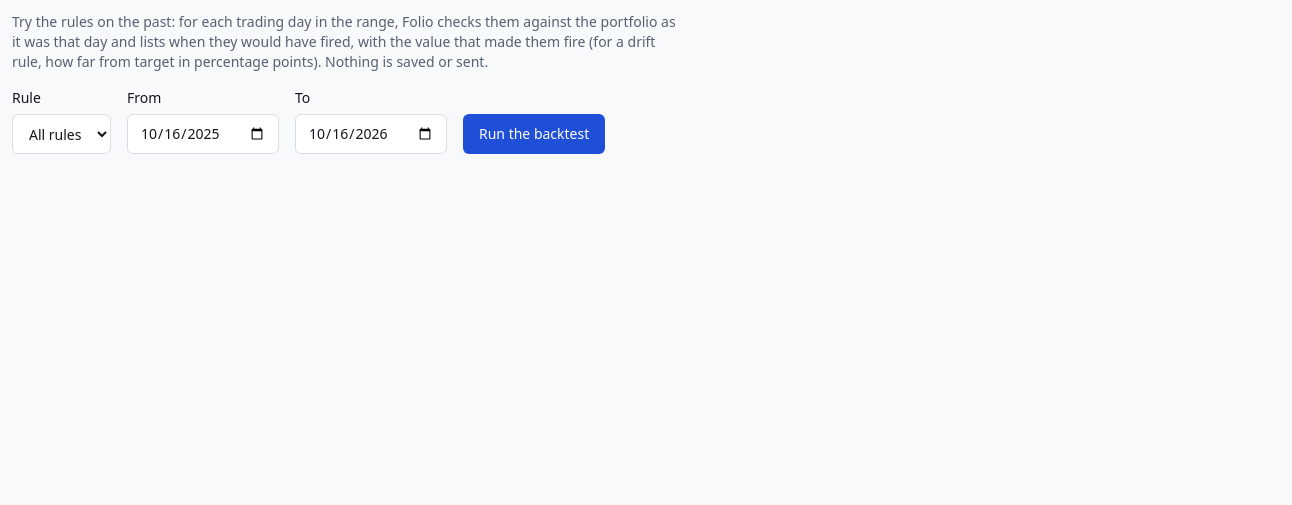
Test: the backtest (FR-ST-06) › tests one rule over a range of your choosing
Select "drift" in the dropdown labelled "Rule" at coordinates (62, 134), box [12, 114, 111, 154]
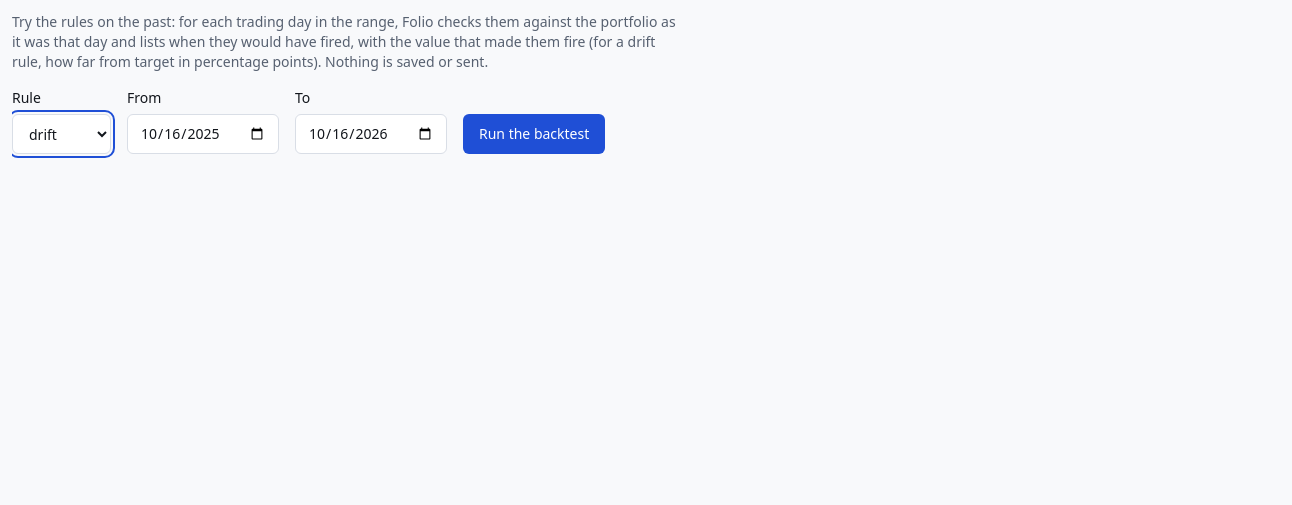
Type "2026-02-01" into the date field labelled "From" at coordinates (203, 134), box [127, 114, 279, 154]
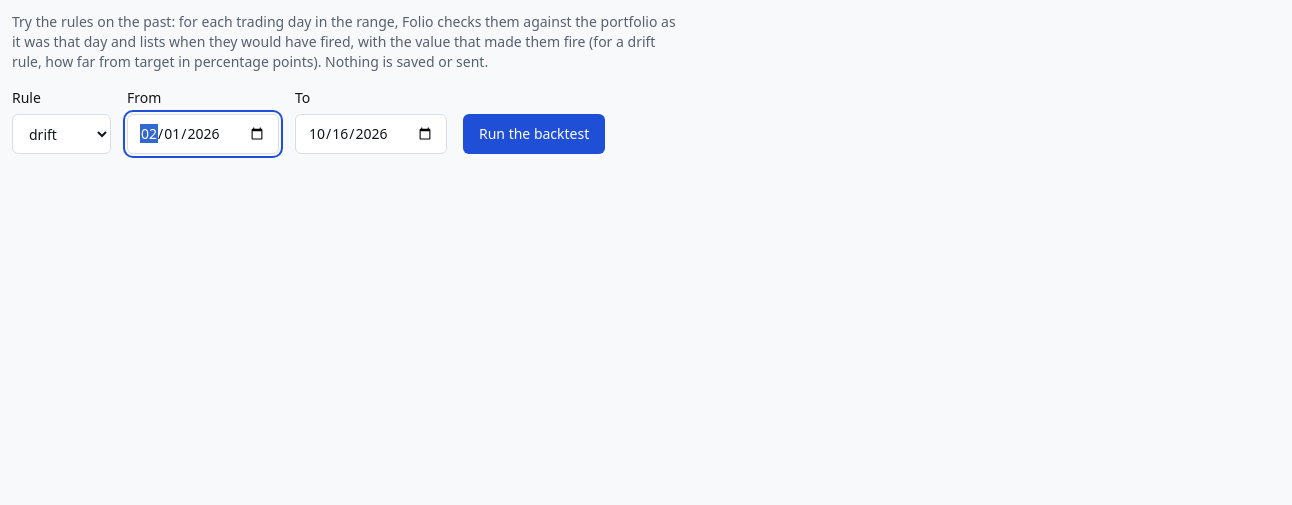
Type "2026-02-15" into the date field labelled "To" at coordinates (371, 134), box [295, 114, 447, 154]
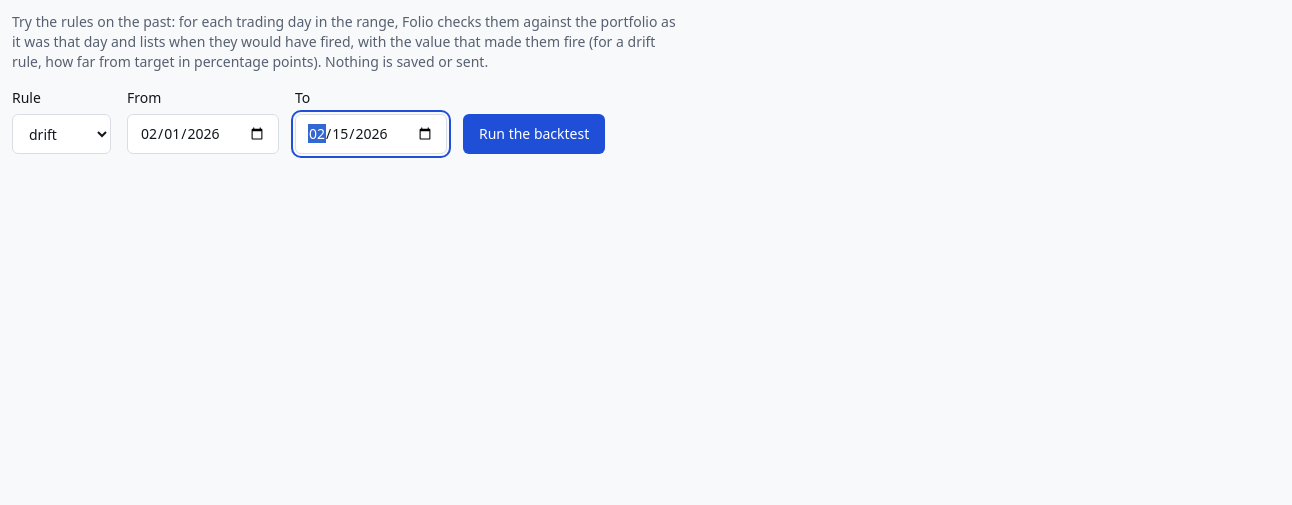
Click the button "Run the backtest" at coordinates (534, 134), box [463, 114, 605, 154]
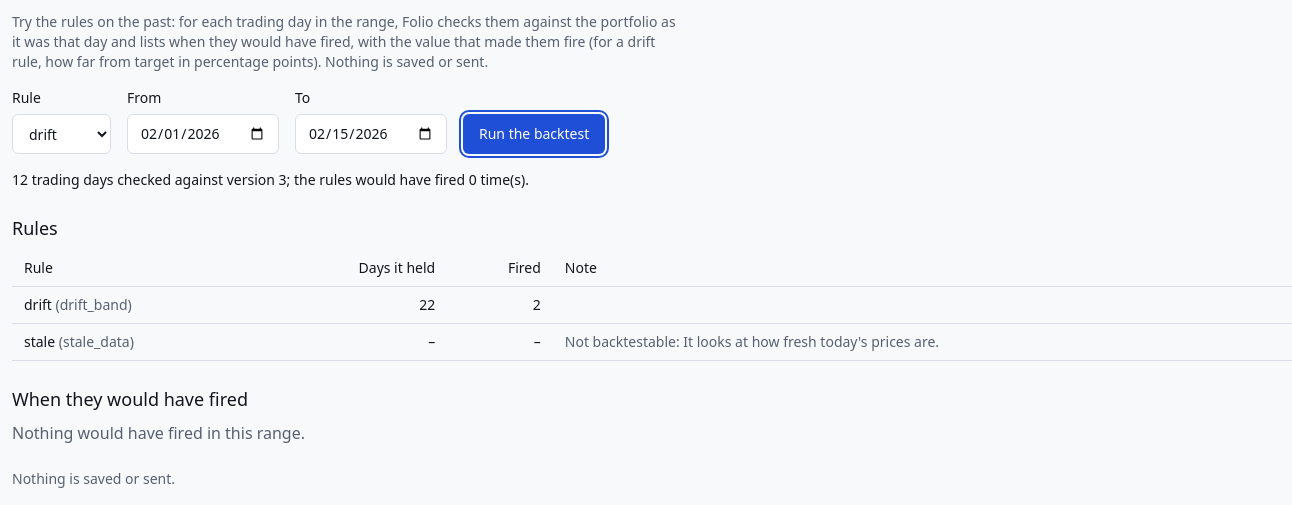
Expected: the text "Nothing would have fired in this range." is shown, [12, 422, 305, 444]
